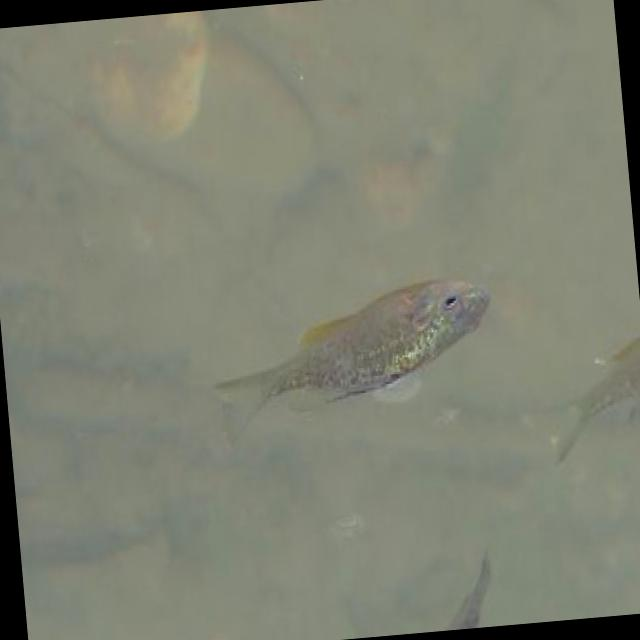Gunes Levregi: (200, 264, 500, 446)
